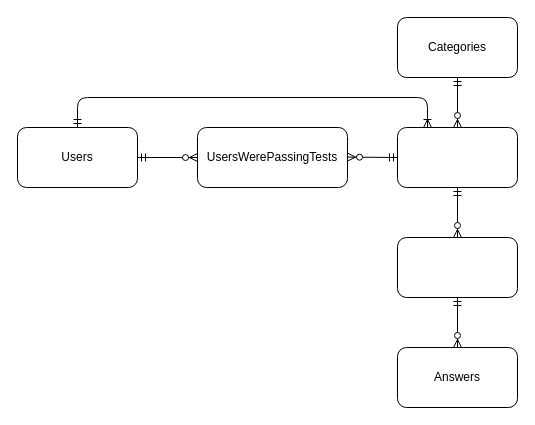
Image size: 535x425. Some labels were removed from this diagram. The shapes that lost their labels are listed below. From the top down, each one's centre as x and y in pixels, then its label:
At (457,157): "Tests".
At (457,267): "Questions".
